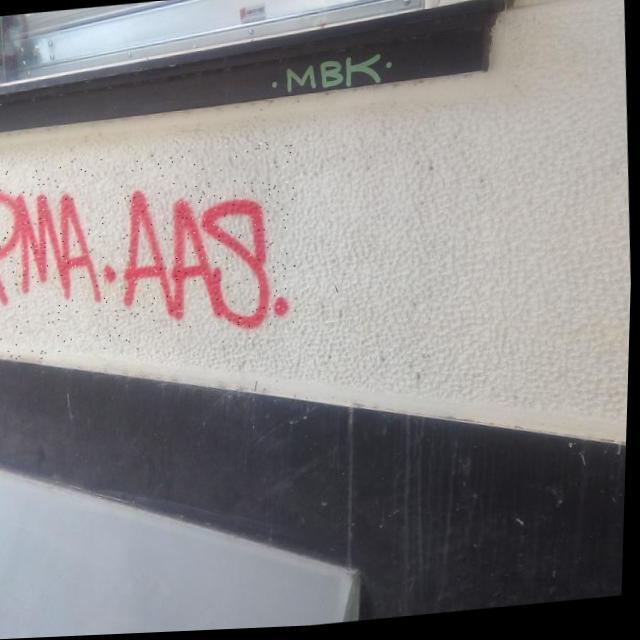-: (0, 141, 303, 365)
